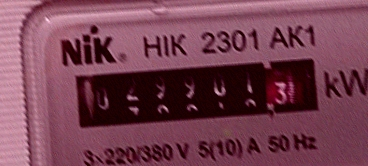0: (91, 83, 111, 111), (209, 69, 227, 99)
1: (240, 66, 255, 95)
2: (120, 75, 140, 103)
3: (270, 79, 289, 106)
9: (150, 73, 168, 101), (181, 72, 196, 100)
screen: (64, 48, 329, 138)
